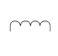inductor: (6, 14, 52, 32)
